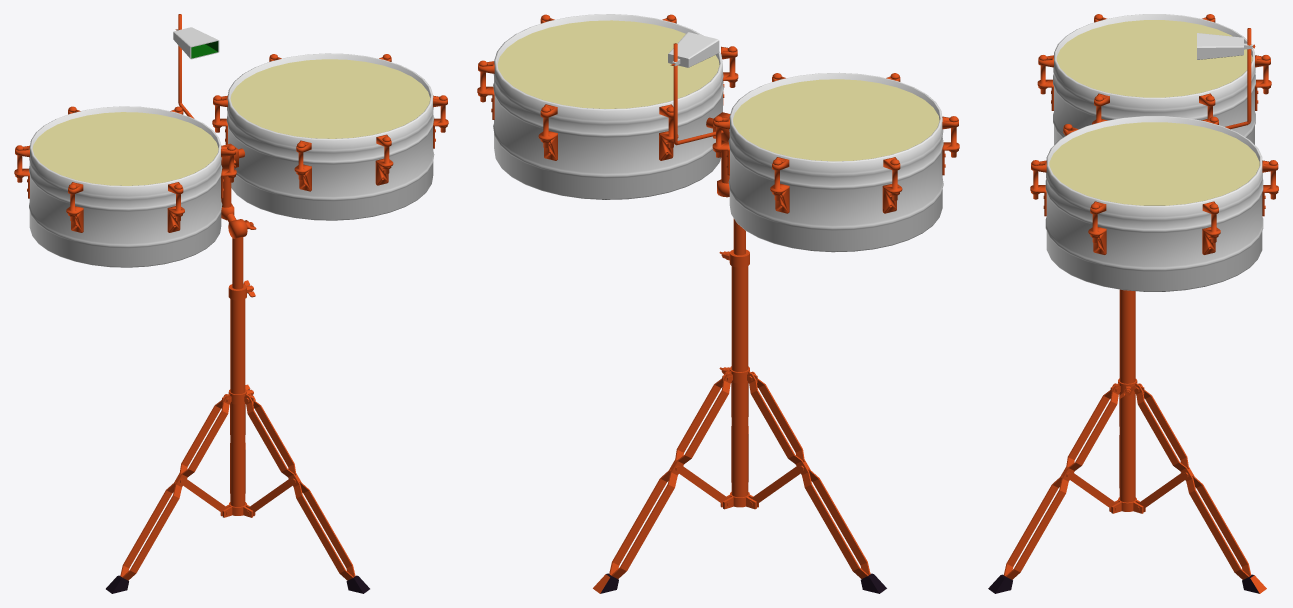
Rendered from Timbales_HP.fbx.
3 views of the same model, side by side, from view 1: azimuth 30°, elevation 25°; view 2: azimuth 150°, elevation 25°; view 3: azimuth 270°, elevation 25° (orthographic). The views are drawn at different scales.
Visible parts, largest first — view 1: Timbales_Top_HP, Timbales_Bottom_HP; view 2: Timbales_Top_HP, Timbales_Bottom_HP; view 3: Timbales_Top_HP, Timbales_Bottom_HP.
Boxes of the visible parts, x1,y1,x2,y2 form: Timbales_Top_HP: (14,14,448,289); Timbales_Bottom_HP: (106,280,369,593); Timbales_Top_HP: (477,14,959,255); Timbales_Bottom_HP: (593,249,886,593); Timbales_Top_HP: (1030,14,1278,291); Timbales_Bottom_HP: (988,289,1266,593).
Bounding box in the file's own units: 8097 × 10265 × 5112.
